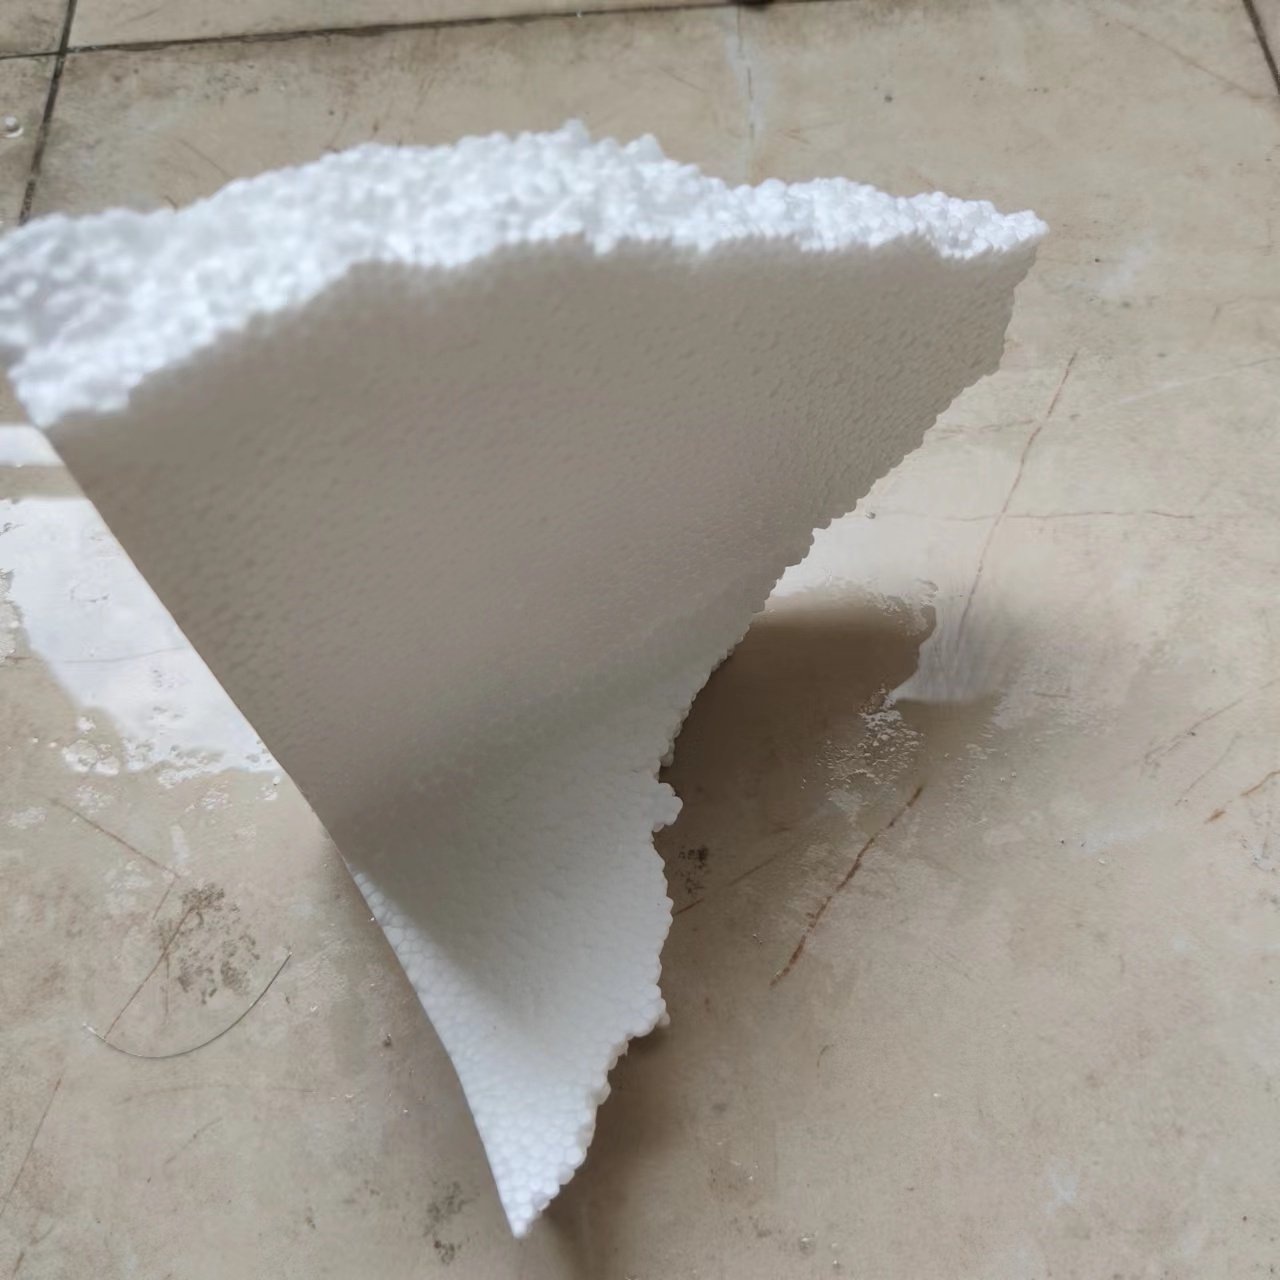5/可回收垃圾/泡沫: (1, 121, 1051, 1239)
